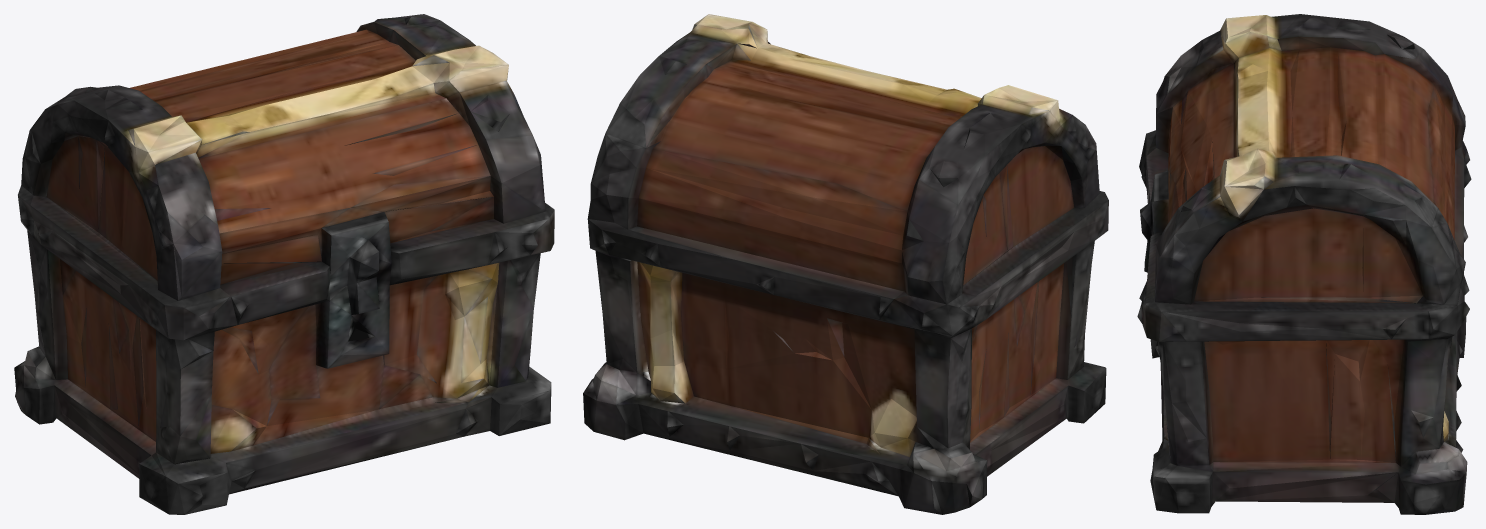
Rendered from chest.glb.
The picture shows the model from 3 angles, left to right: view 1: azimuth 30°, elevation 25°; view 2: azimuth 150°, elevation 25°; view 3: azimuth 270°, elevation 25°; orthographic projection. The views are drawn at different scales.
Parts seen in each view (by area): view 1: lid, body; view 2: lid, body; view 3: lid, body.
Boxes of the visible parts, box(x1,y1,x2,y2) form: lid: box(18, 14, 554, 311); body: box(14, 199, 554, 514); lid: box(587, 14, 1108, 311); body: box(583, 204, 1108, 514); lid: box(1140, 14, 1465, 315); body: box(1137, 141, 1471, 514).
Size of the model in its own units: 1 by 0.8368 by 0.7541.
2 materials, 1 textured.
